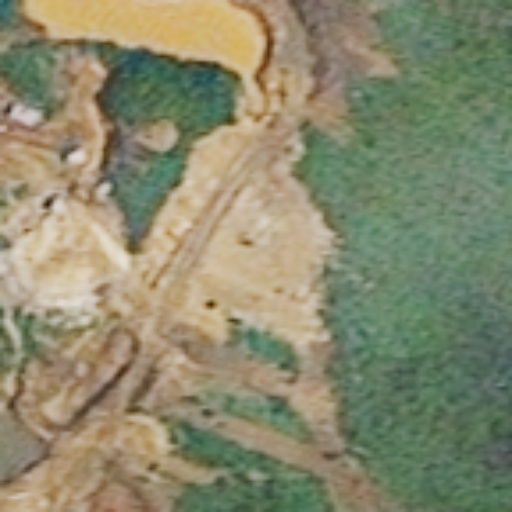landslide: (5, 99, 341, 489)
